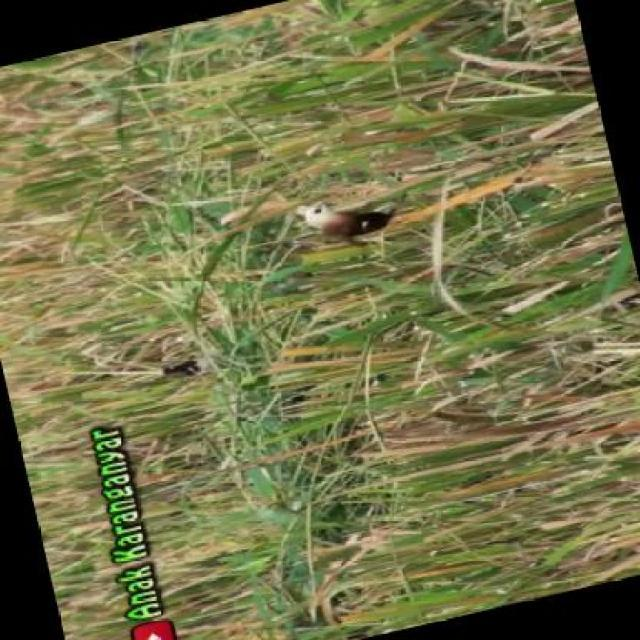Bird: (294, 193, 396, 252), (151, 352, 215, 395)
